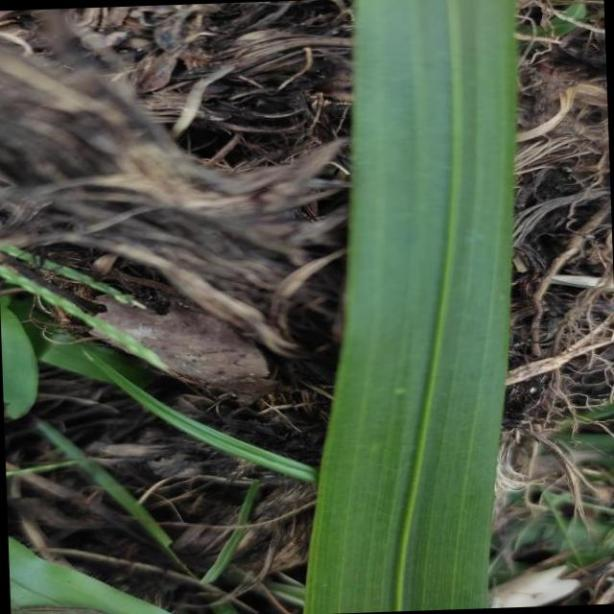Healthy: (309, 0, 521, 614)
